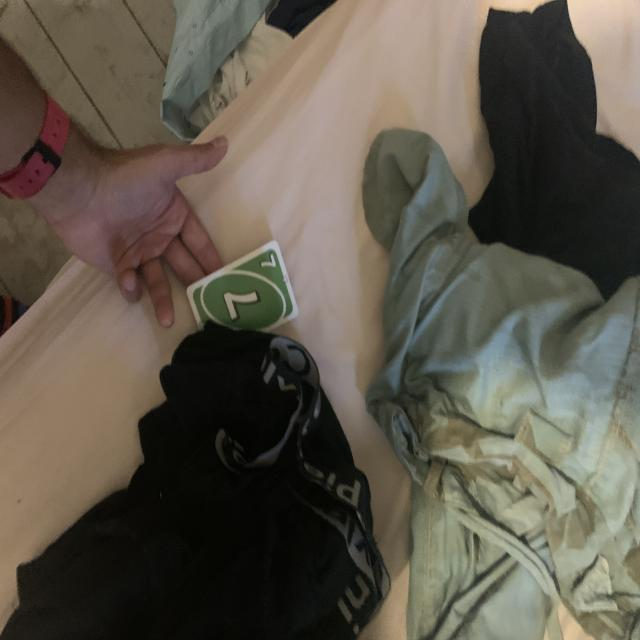lgreen-7: (259, 249, 279, 273)
